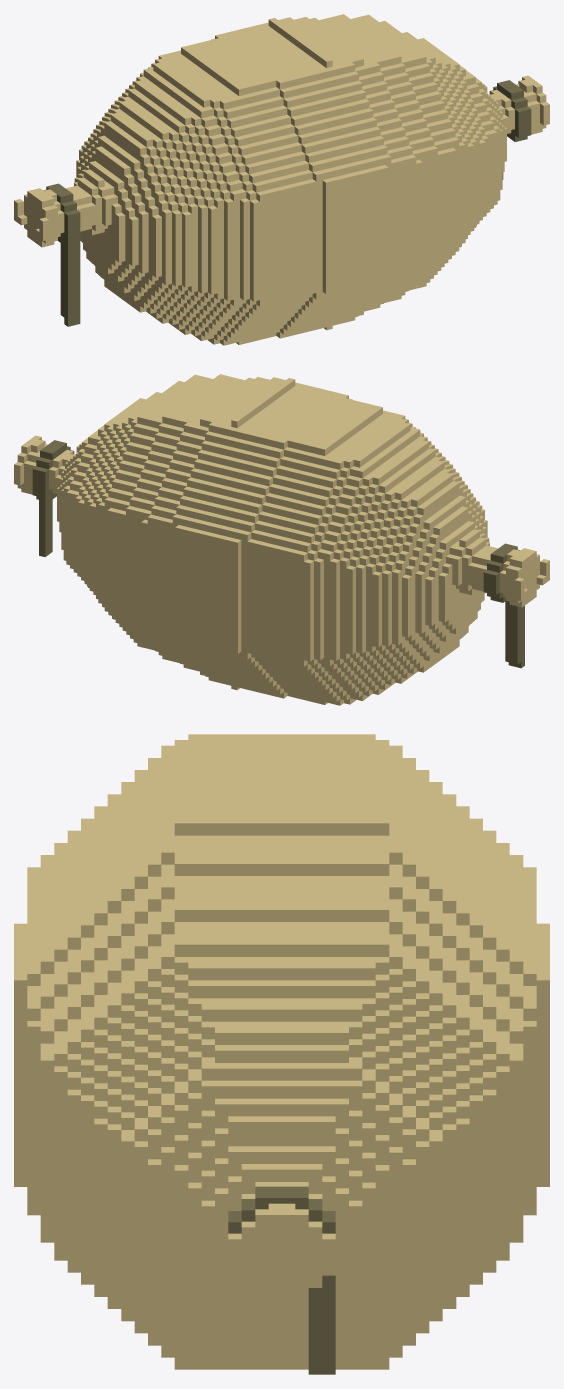
The model's file is large_stomach_sealed.glb.
3 views of the same model, one above another, from view 1: azimuth 30°, elevation 25°; view 2: azimuth 150°, elevation 25°; view 3: azimuth 270°, elevation 25° (orthographic). The views are drawn at different scales.
Parts seen in each view (by area): view 1: large_stomach_sealed:compound; view 2: large_stomach_sealed:compound; view 3: large_stomach_sealed:compound.
Boxes of the visible parts, left/top/right/bottom form: large_stomach_sealed:compound: left=14, top=14, right=549, bottom=345; large_stomach_sealed:compound: left=14, top=374, right=549, bottom=705; large_stomach_sealed:compound: left=14, top=734, right=549, bottom=1374.
Size of the model in its own units: 0.324 by 0.164 by 0.16.
